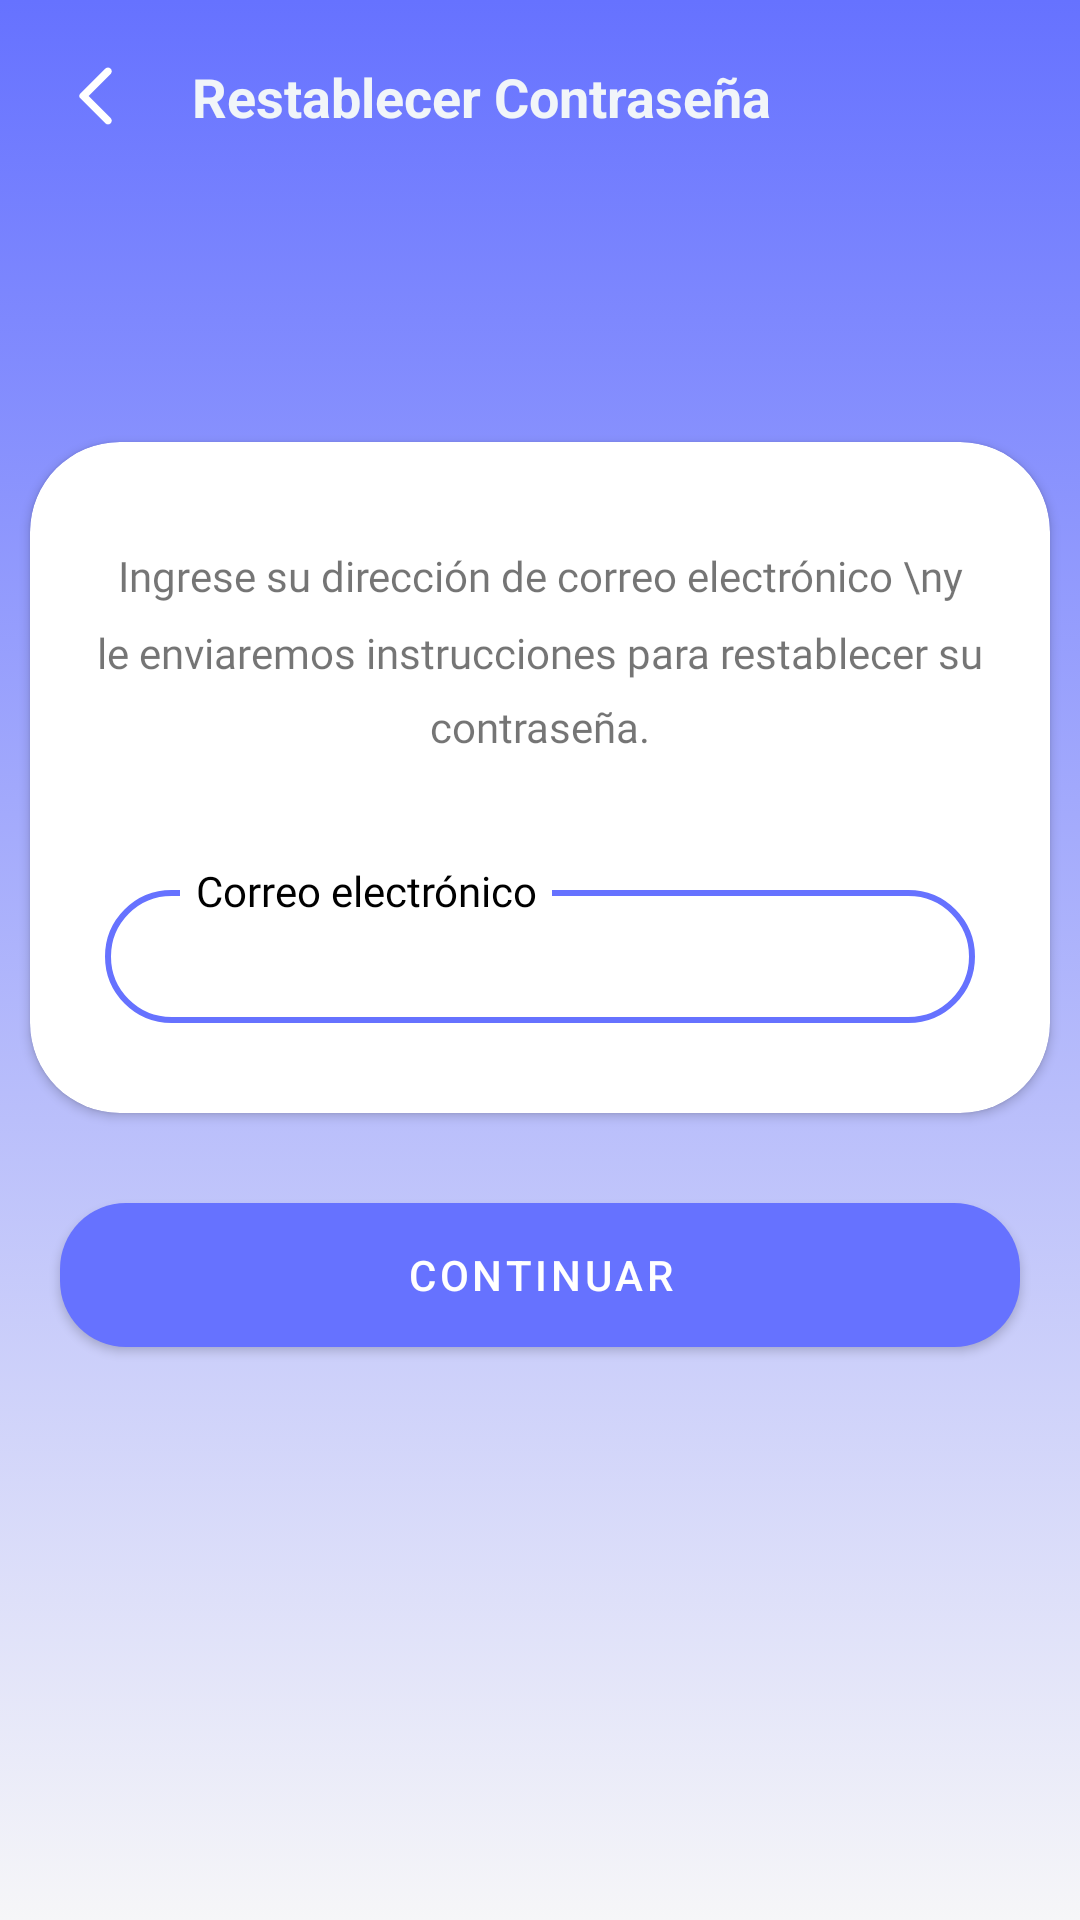

Named icons in this screenshot (1080px×1920px) and their centers, (x,y):
arrow back: (95,96)
